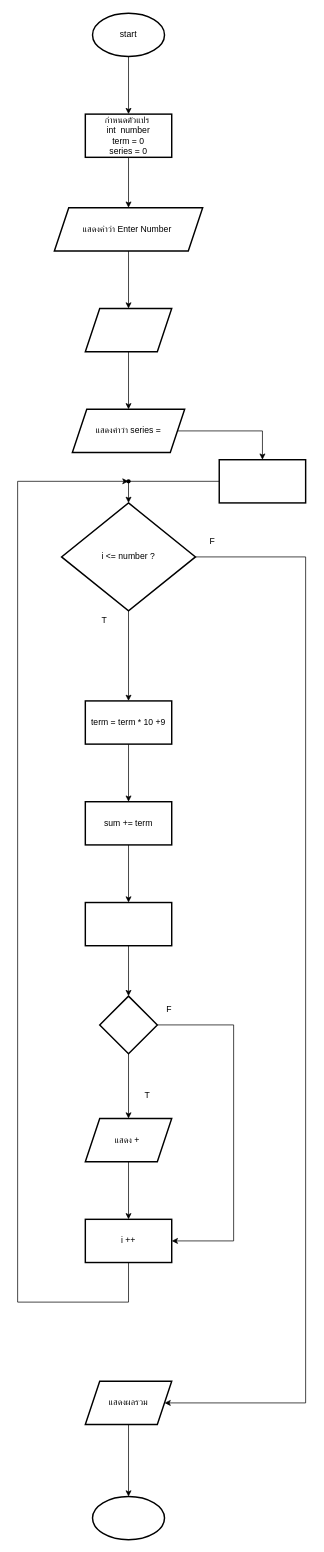
The diagram is 324 pixels wide and 1552 high, and some of its shapes have lost their labels. Here are the shapes that lost their labels. From the top down, the centre of each, then its label:
point (128, 329): รับค่าจากผู้ใช้
point (262, 481): i = 1
point (128, 923): แสดงผลของ term
point (128, 1024): i < number ?
point (128, 1517): end
